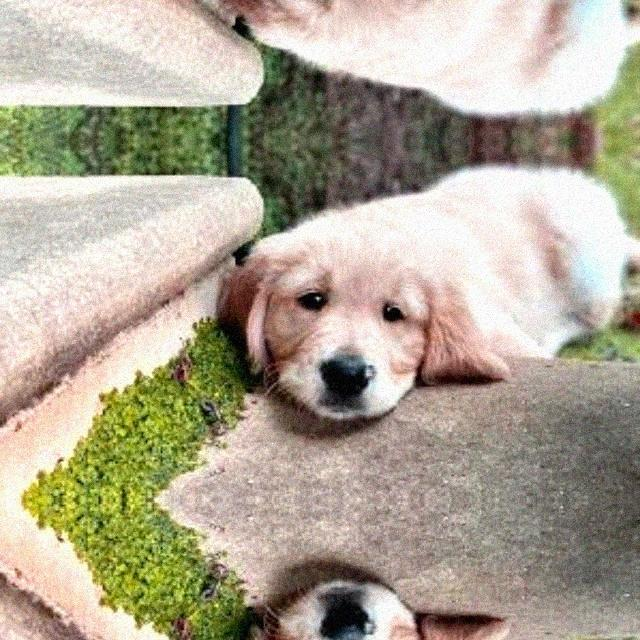dog: (195, 205, 511, 425), (195, 0, 511, 75), (195, 574, 511, 640)
